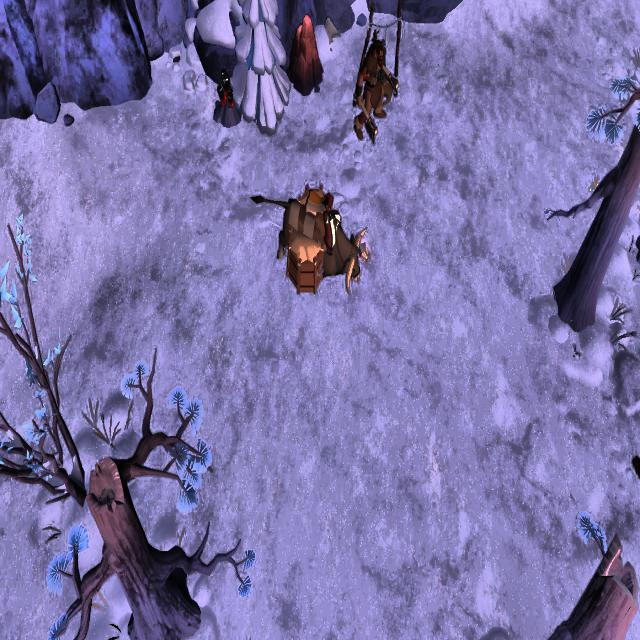enemy_factionKeeper: (351, 38, 399, 143)
ore_t5: (214, 68, 236, 110)
rock_t5: (288, 12, 324, 98)
